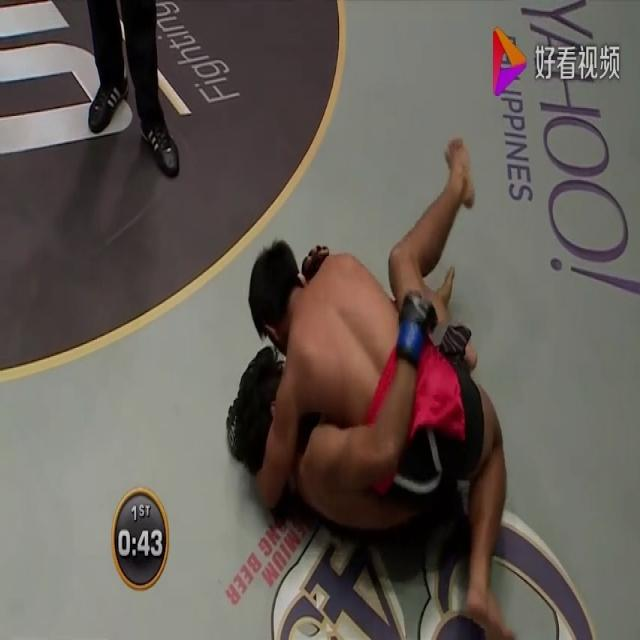fight: (198, 117, 618, 639)
